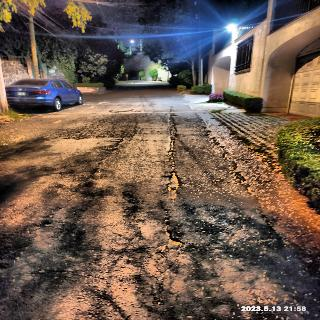crack: (207, 118, 266, 238), (161, 104, 189, 254), (233, 275, 319, 320), (89, 117, 118, 247)
